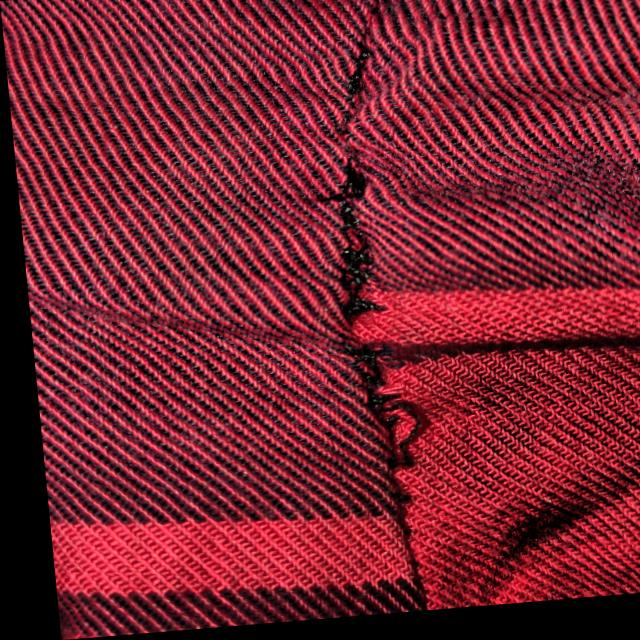Stitch: (305, 49, 444, 474)
